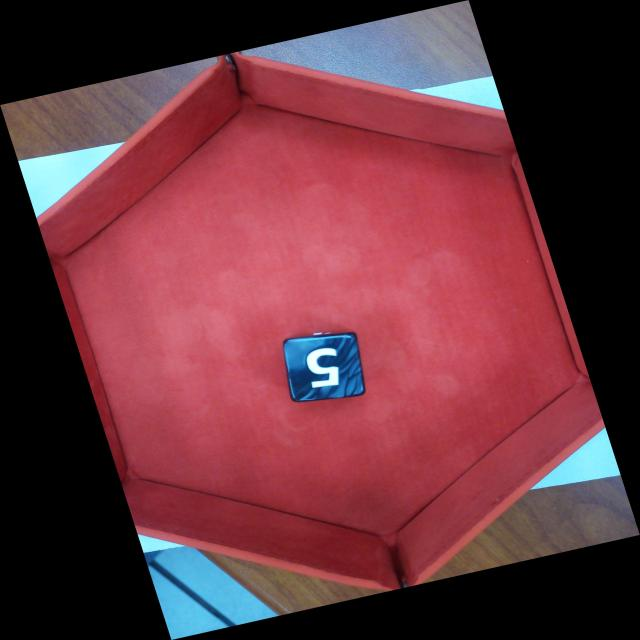dice: (283, 333, 365, 403)
